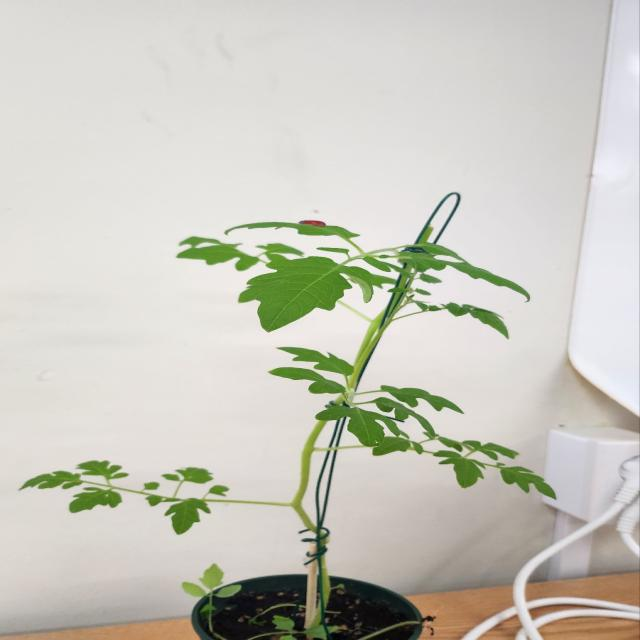bug: (295, 215, 341, 238)
